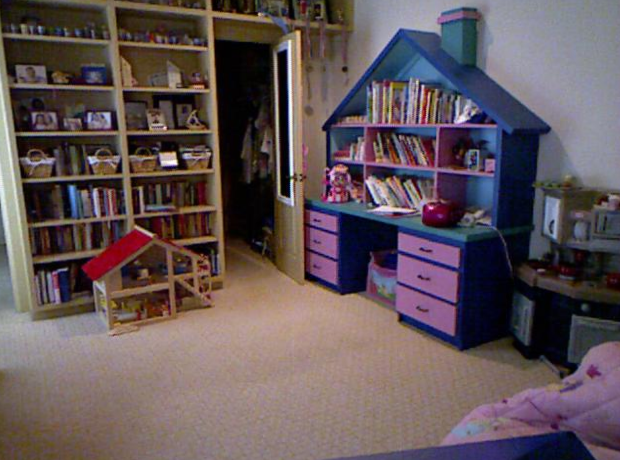cabinetDoor: (402, 245, 452, 255), (308, 235, 334, 254), (400, 305, 449, 315), (403, 272, 452, 281), (306, 260, 328, 270), (308, 216, 329, 225)
door: (274, 29, 300, 270)
openedDoor: (223, 29, 303, 274)
table: (311, 191, 488, 235)
